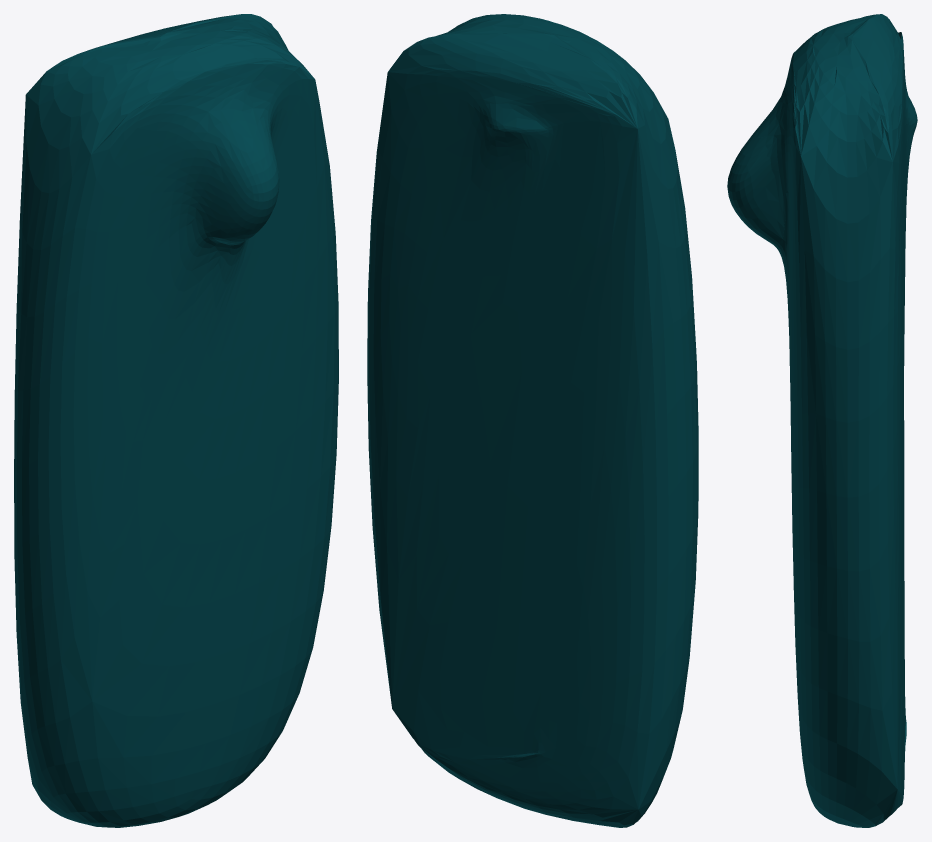
The picture shows the model from 3 angles, left to right: view 1: azimuth 30°, elevation 25°; view 2: azimuth 150°, elevation 25°; view 3: azimuth 270°, elevation 25°; orthographic projection.
Visible parts, largest first — view 1: 045_Cube.185; view 2: 045_Cube.185; view 3: 045_Cube.185.
Part boxes in pixels (x1,y1,x2,y2): 045_Cube.185: (14,14,338,827); 045_Cube.185: (367,14,698,827); 045_Cube.185: (727,14,917,827).
Size of the model in its own units: 5.14 by 12.09 by 2.71.
